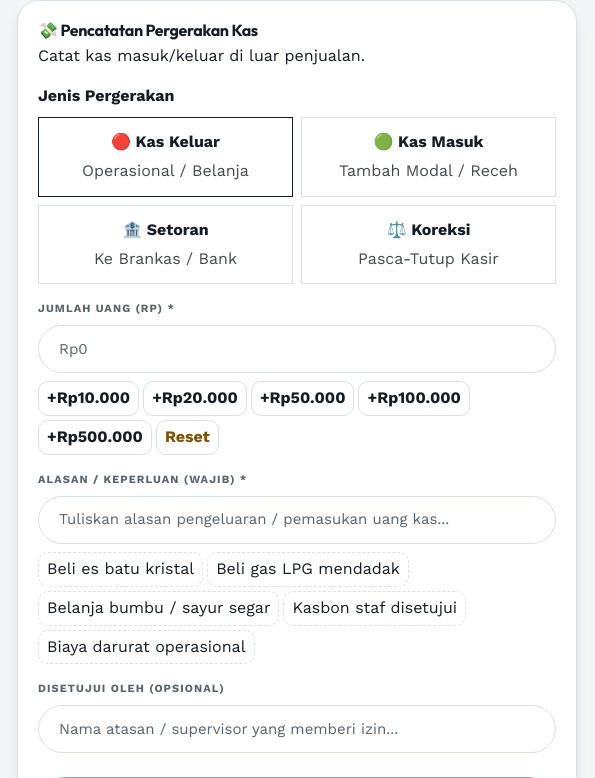
it: KasKeluarMasuk (T7-03 — Kas Masuk, Kas Keluar, Setoran, dan Koreksi) › mengklik saran alasan mengisi input alasan
Click the button "Beli es batu kristal" at (121, 569), box [38,552,203,587]
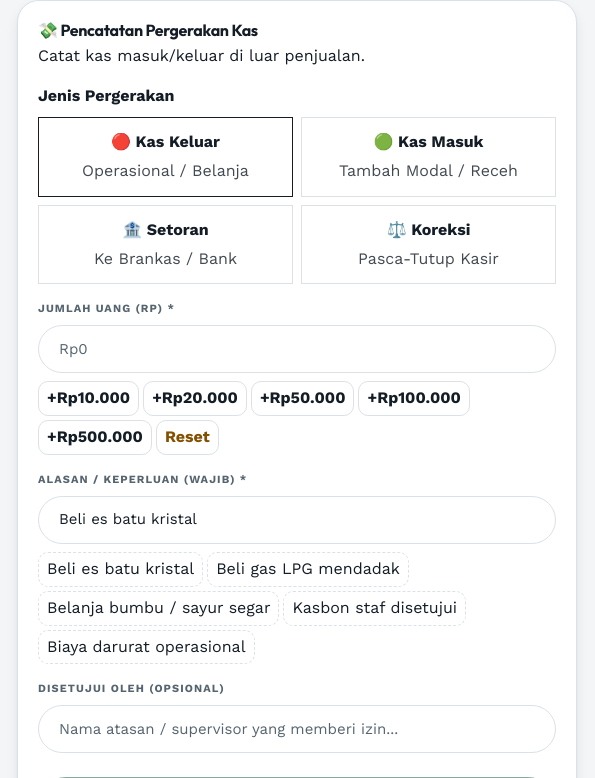
Expected: the field labelled "Alasan / Keperluan (Wajib) *" holds "Beli es batu kristal", [38,496,556,544]
